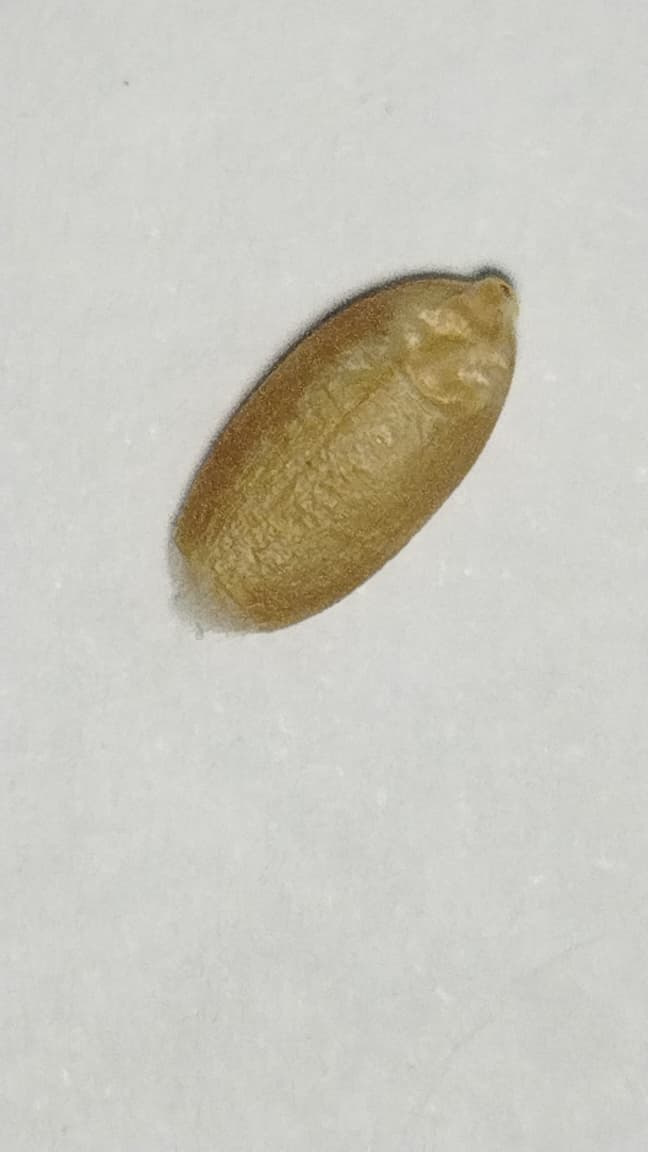healthy: (163, 264, 526, 636)
